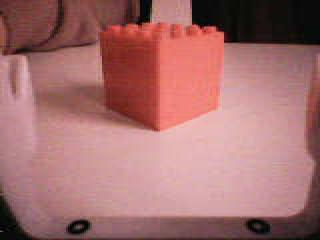legocube: (97, 21, 227, 135)
